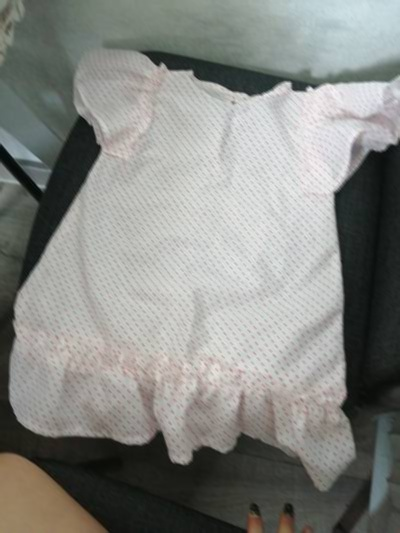Dress: (28, 19, 378, 490)
